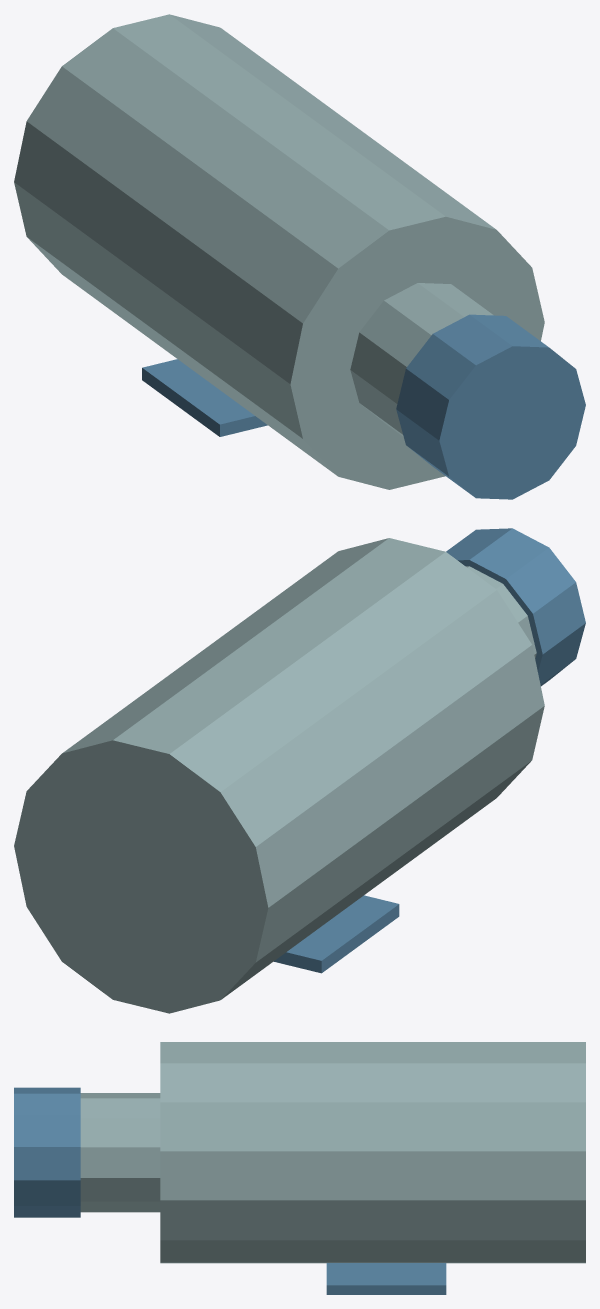
The model's file is water_bottle.glb.
The picture shows the model from 3 angles, top to bottom: view 1: azimuth 30°, elevation 25°; view 2: azimuth 150°, elevation 25°; view 3: azimuth 270°, elevation 25°; orthographic projection. The views are drawn at different scales.
Visible parts, largest first — view 1: 00_bottle_body, 02_cap, 01_bottle_neck, 03_label; view 2: 00_bottle_body, 02_cap, 03_label, 01_bottle_neck; view 3: 00_bottle_body, 01_bottle_neck, 02_cap, 03_label.
Boxes of the visible parts, <box> form: 00_bottle_body: <box>14,14,544,489</box>; 02_cap: <box>396,314,585,499</box>; 01_bottle_neck: <box>350,283,493,436</box>; 03_label: <box>142,359,267,436</box>; 00_bottle_body: <box>14,538,544,1013</box>; 02_cap: <box>446,528,585,686</box>; 03_label: <box>274,895,399,973</box>; 01_bottle_neck: <box>466,566,536,658</box>; 00_bottle_body: <box>160,1042,585,1263</box>; 01_bottle_neck: <box>80,1093,160,1212</box>; 02_cap: <box>14,1087,80,1217</box>; 03_label: <box>326,1263,446,1294</box>.
Bounding box in the file's own units: 0.17 × 0.1774 × 0.43.
